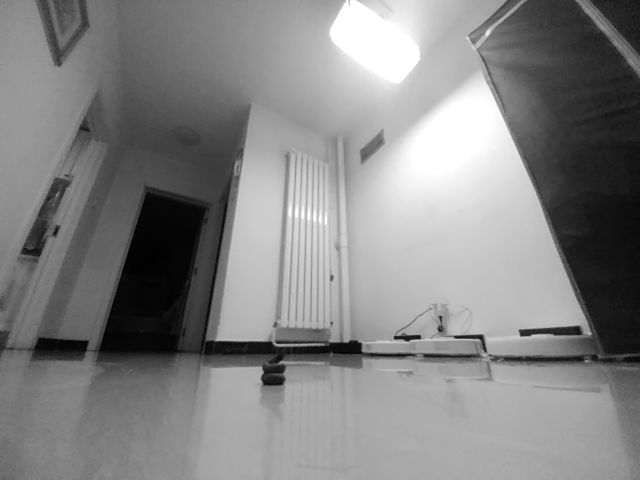pet feces: (261, 352, 287, 387)
